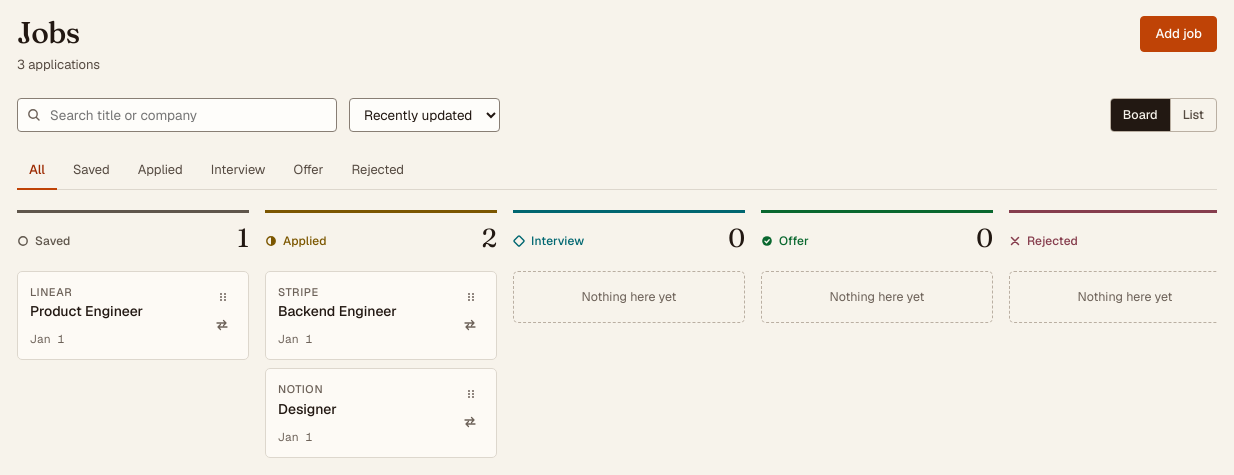
Test case: DashboardPage › searches by title or company
This screenshot has width=1234, height=475.
Check: the text "Product Engineer" is shown, box [30,302,143,320]
Type "stripe" into the search field named "search jobs" at (177, 115), box [17,98,337,132]
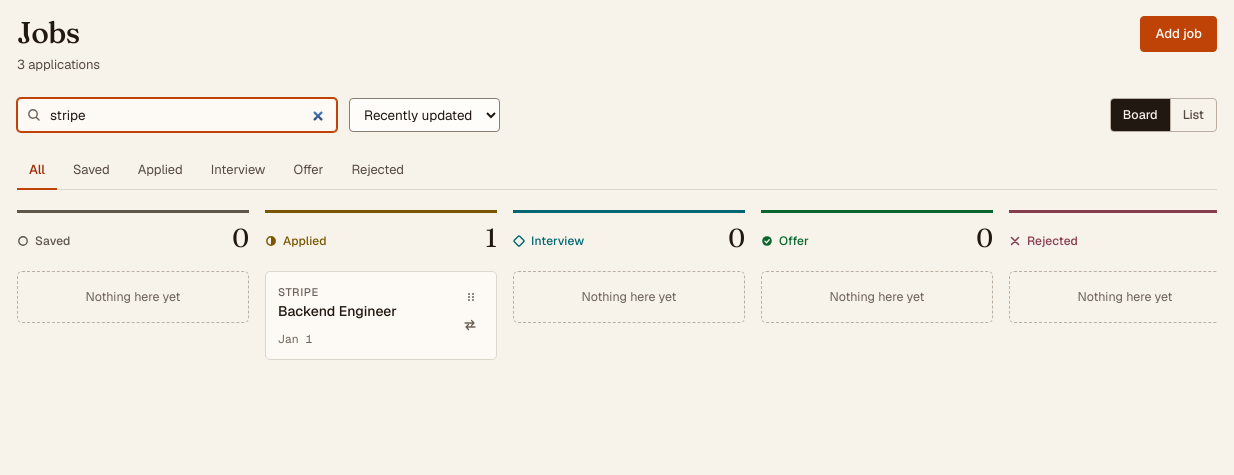
Check: the text "Backend Engineer" is shown, box [278,302,397,320]
Check: the link "Product Engineer" is gone
